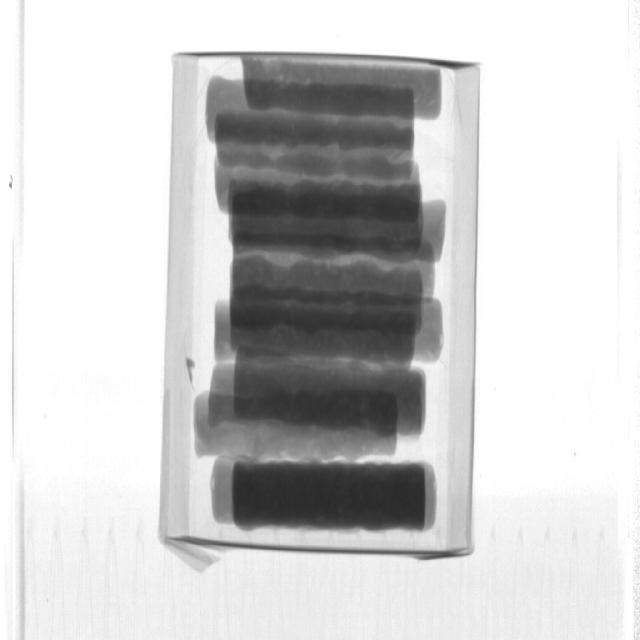ym: (184, 351, 198, 387)
